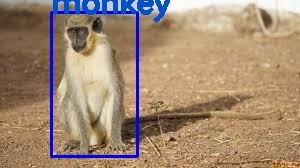monkey: (50, 11, 136, 156)
